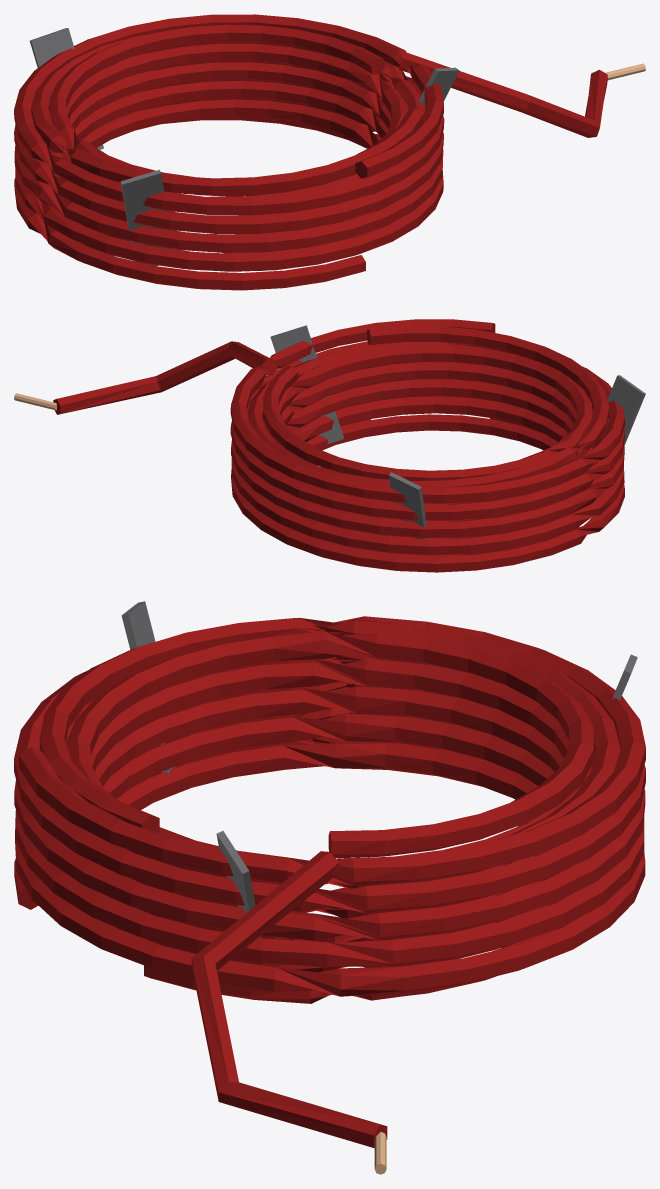
File: fio_eletrico.glb
3 renders of one model, top to bottom at view 1: azimuth 30°, elevation 25°; view 2: azimuth 150°, elevation 25°; view 3: azimuth 270°, elevation 25°, orthographic. The views are drawn at different scales.
Visible parts, largest first — view 1: fio_eletrico_fio_vermelho, fio_eletrico_plastico_preto; view 2: fio_eletrico_fio_vermelho, fio_eletrico_plastico_preto; view 3: fio_eletrico_fio_vermelho, fio_eletrico_plastico_preto.
Part boxes in pixels (bbox=[...]): fio_eletrico_fio_vermelho: bbox=[14, 14, 607, 290]; fio_eletrico_plastico_preto: bbox=[29, 28, 459, 266]; fio_eletrico_fio_vermelho: bbox=[53, 319, 625, 572]; fio_eletrico_plastico_preto: bbox=[270, 325, 645, 555]; fio_eletrico_fio_vermelho: bbox=[14, 616, 645, 1148]; fio_eletrico_plastico_preto: bbox=[121, 601, 637, 937].
Size of the model in its own units: 0.2079 by 0.0391 by 0.125.
